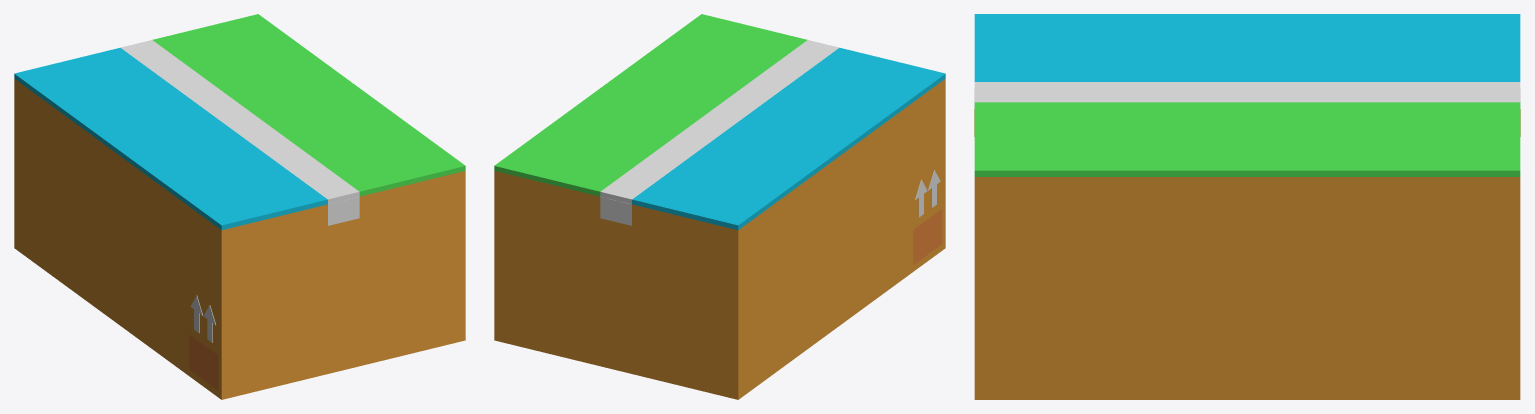
Rendered from kutu (1).fbx.
3 views of the same model, side by side, from view 1: azimuth 30°, elevation 25°; view 2: azimuth 150°, elevation 25°; view 3: azimuth 270°, elevation 25° (orthographic). The views are drawn at different scales.
Parts seen in each view (by area): view 1: kutu, solKapak, sagKapak, icKapakSag; view 2: kutu, solKapak, sagKapak, icKapakSol; view 3: kutu, sagKapak, solKapak, icKapakSag, icKapakSol.
Part boxes in pixels (left/top/right/bottom): kutu: left=14, top=79, right=465, bottom=399; solKapak: left=14, top=44, right=343, bottom=230; sagKapak: left=136, top=14, right=465, bottom=200; icKapakSag: left=222, top=173, right=463, bottom=235; kutu: left=494, top=79, right=945, bottom=399; solKapak: left=616, top=44, right=945, bottom=230; sagKapak: left=494, top=14, right=823, bottom=200; icKapakSol: left=568, top=176, right=813, bottom=237; kutu: left=974, top=89, right=1520, bottom=399; sagKapak: left=974, top=92, right=1520, bottom=176; solKapak: left=974, top=14, right=1520, bottom=92; icKapakSag: left=974, top=177, right=1171, bottom=187; icKapakSol: left=1323, top=177, right=1520, bottom=187.
Bounding box in the file's own units: 124 × 84.52 × 182.
